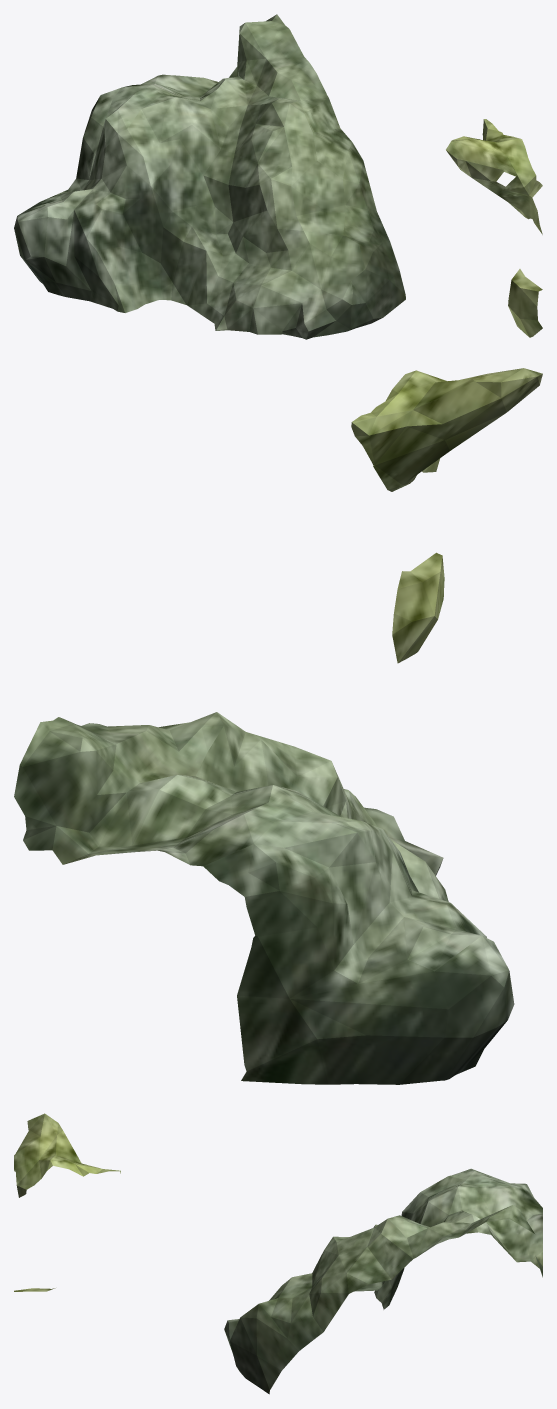
3 renders of one model, top to bottom at view 1: azimuth 30°, elevation 25°; view 2: azimuth 150°, elevation 25°; view 3: azimuth 270°, elevation 25°, orthographic. The views are drawn at different scales.
Size of the model in its own units: 3.45 by 3.04 by 5.9.
Materials: 2 (2 with a texture image).
